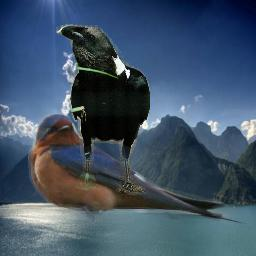Crow: (56, 24, 150, 195)
Swallow: (28, 113, 247, 225)
